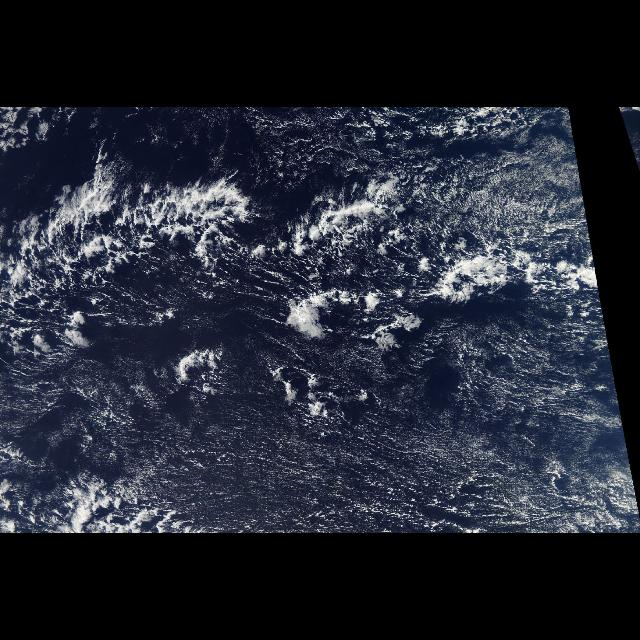Fish: (9, 172, 600, 312)
Flower: (425, 258, 533, 300)
Gravel: (464, 422, 638, 530)
Sugar: (10, 321, 630, 533), (235, 108, 592, 258)
